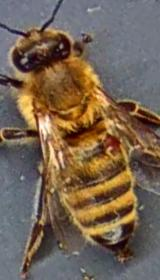varroa_mite: (96, 128, 134, 159)
